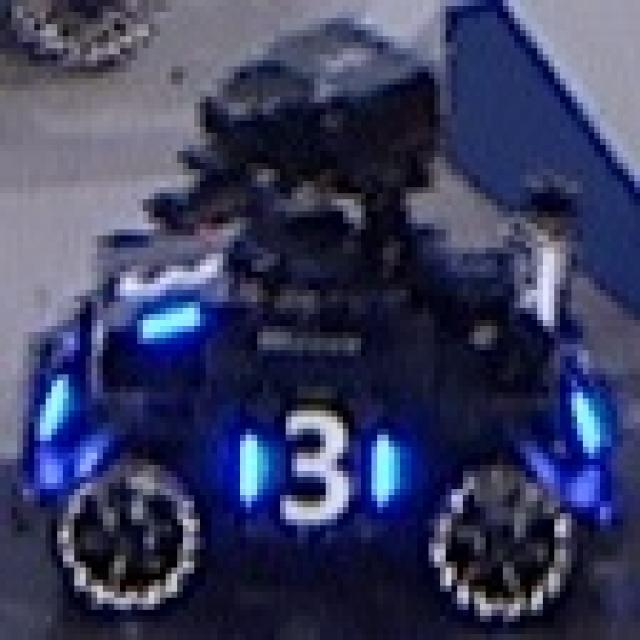B3: (223, 380, 400, 520), (100, 224, 231, 350)
